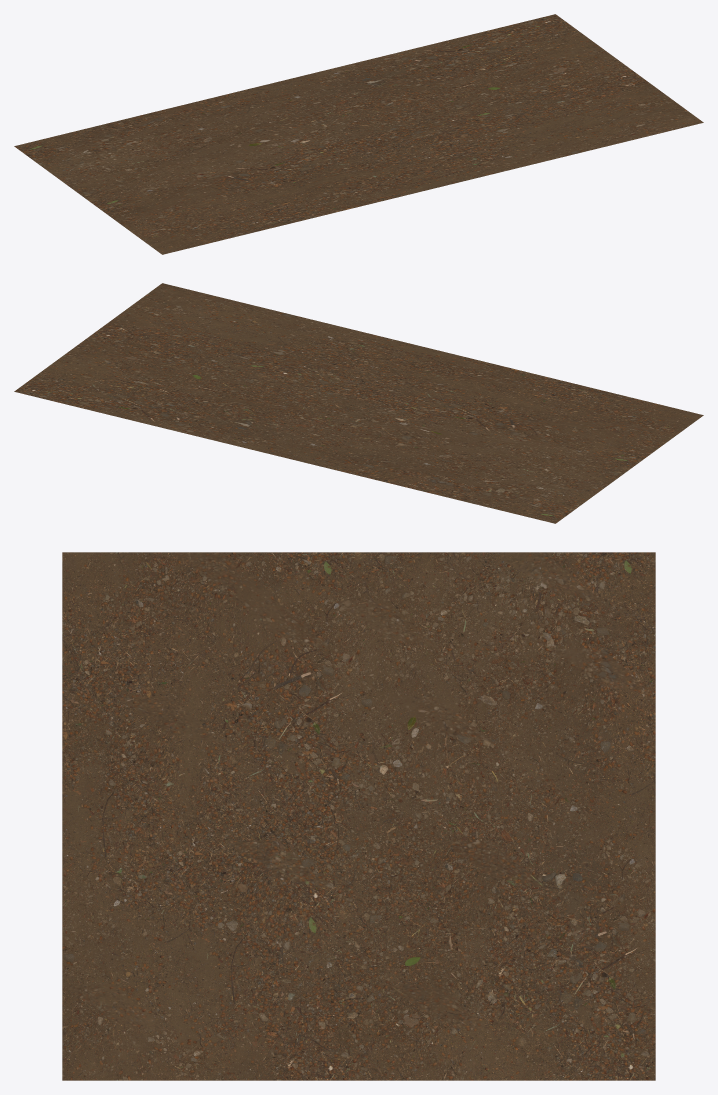
Rendered from Suelo_Zona2.glb.
The picture shows the model from 3 angles, top to bottom: view 1: azimuth 30°, elevation 25°; view 2: azimuth 150°, elevation 25°; view 3: azimuth 270°, elevation 25°; orthographic projection. The views are drawn at different scales.
Parts seen in each view (by area): view 1: Plano; view 2: Plano; view 3: Plano.
Boxes of the visible parts, box(x1,y1,x2,y2) form: Plano: box(14, 14, 703, 254); Plano: box(14, 283, 703, 523); Plano: box(62, 552, 655, 1080).
Bounding box in the file's own units: 80.25 × 0.7202 × 38.08.
Materials: 1 (1 with a texture image).
